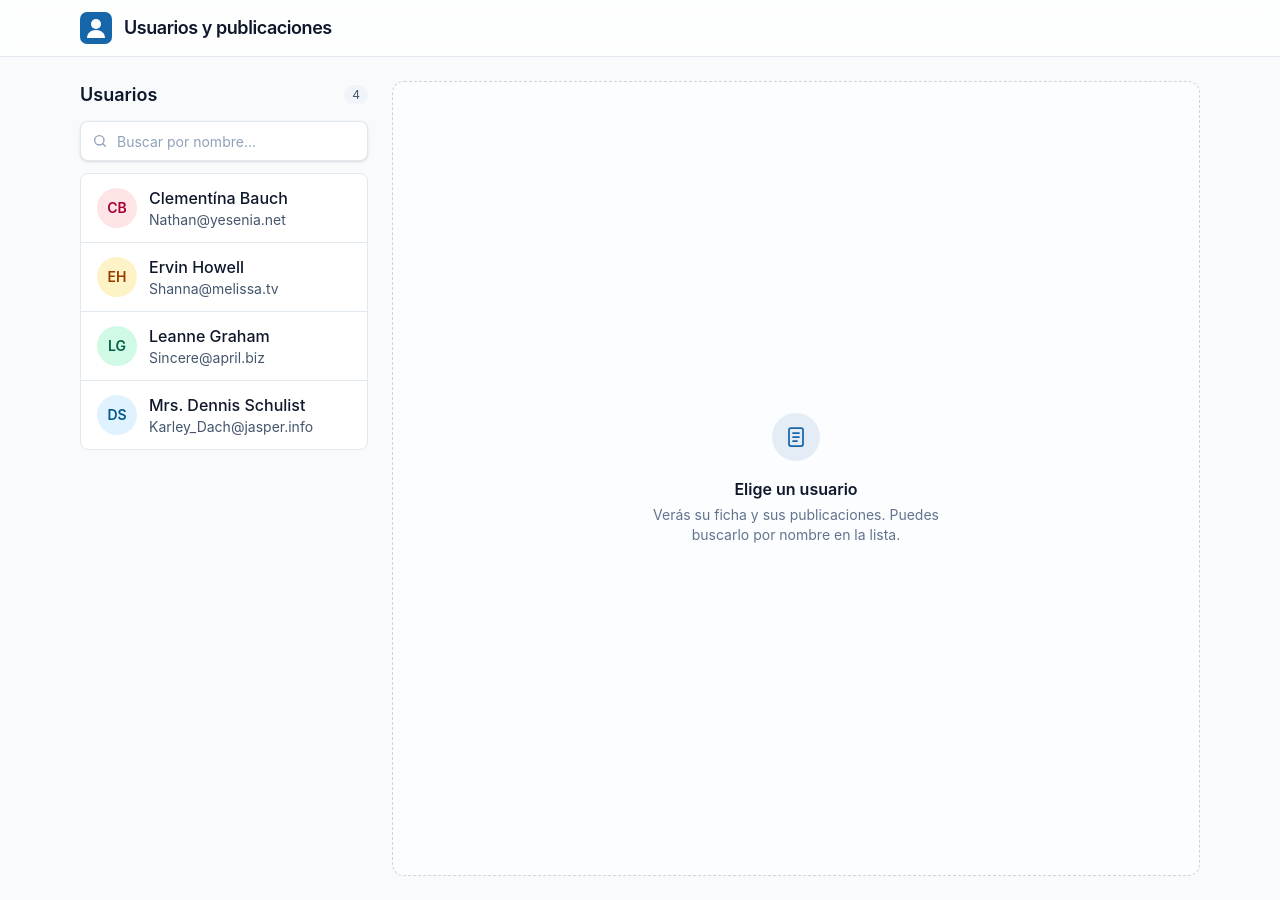
Lista de usuarios › filtra por nombre sin distinguir mayúsculas ni tildes
The image size is (1280, 900).
Expected: the list is shown, [80,173,368,450]
Type "CLEMENTINA" into the search field named "Buscar usuario por nombre" at point(224, 141), box [80,121,368,161]
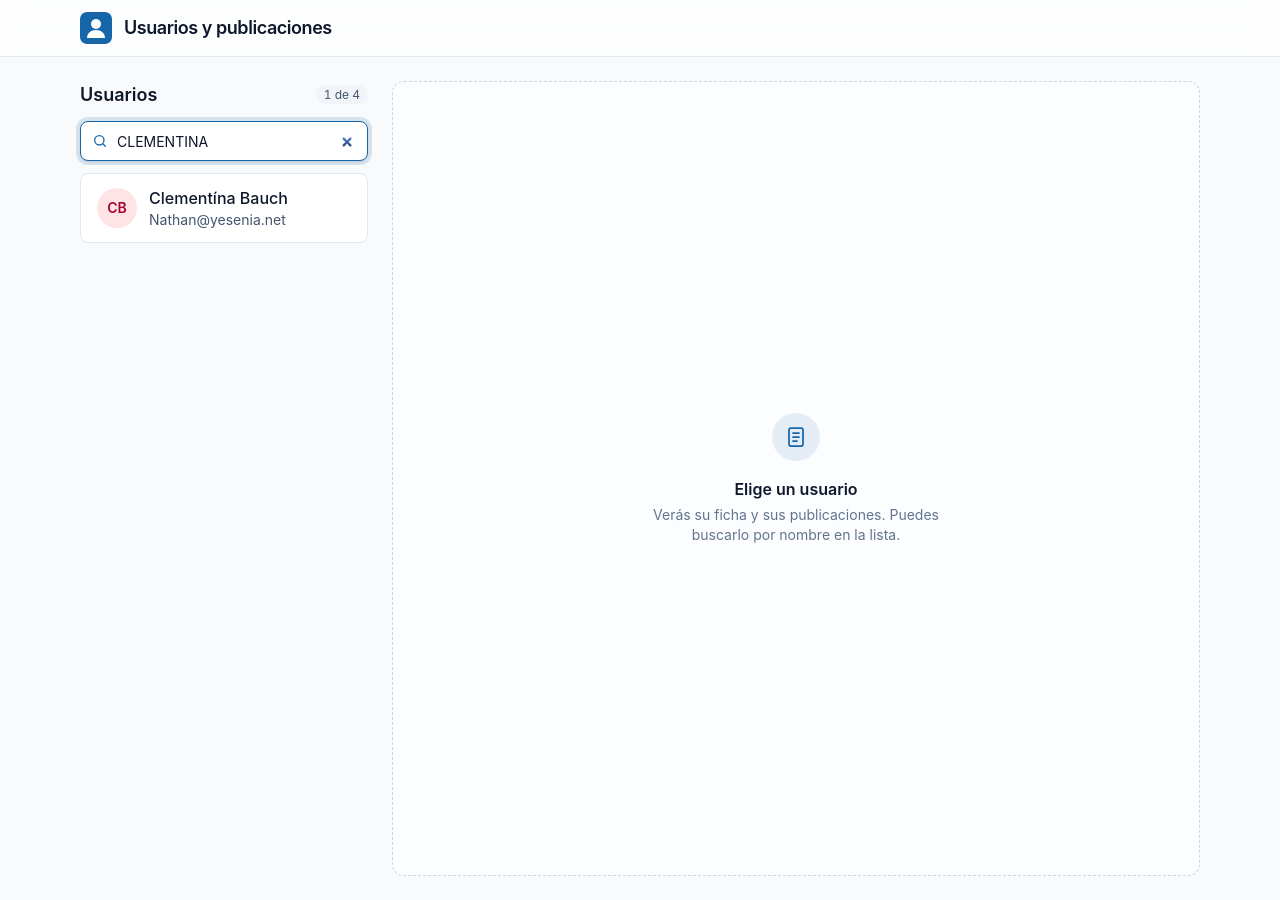
Expected: the text "1 de 4" is shown, [316,85,368,104]
